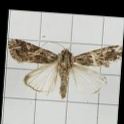Spodoptera litura: (4, 40, 120, 99)
